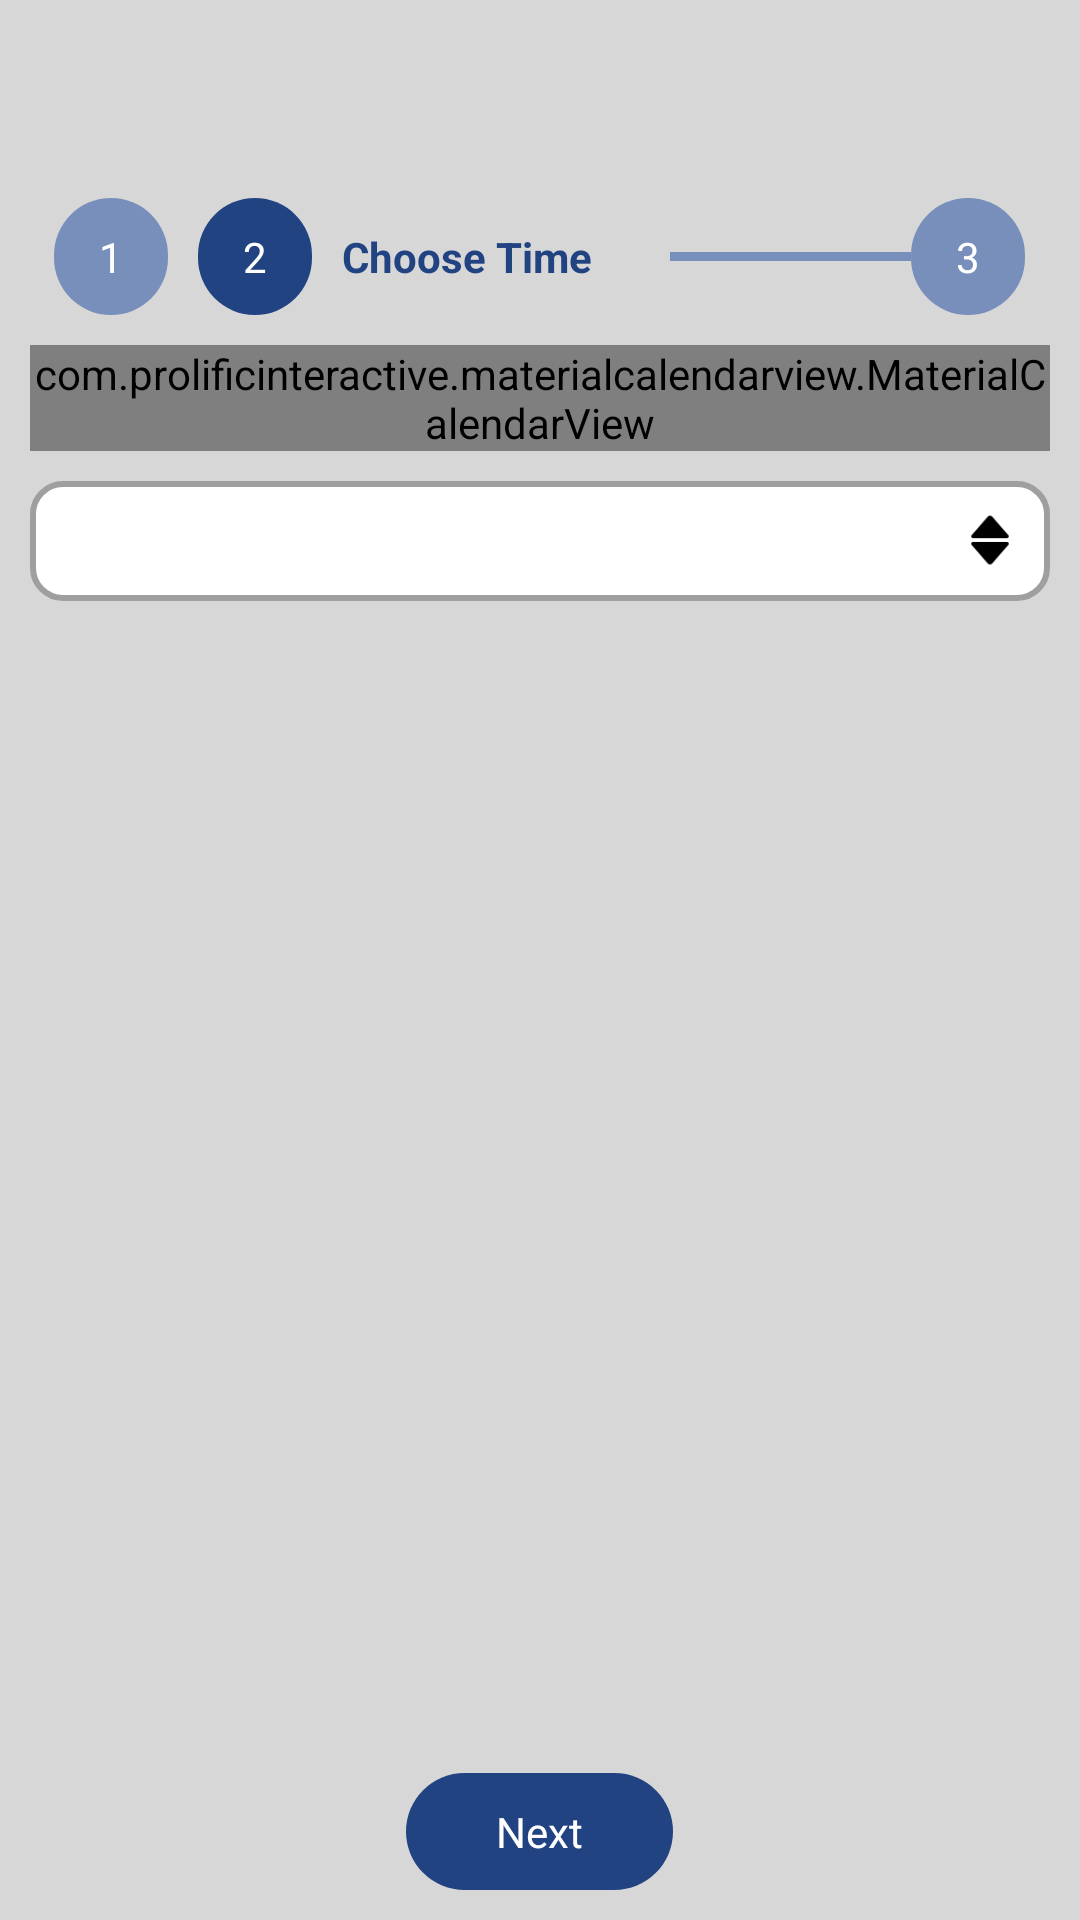

Icons on this 1080 x 1920 Android screen, each with its box as (x1, y1, x2, y2):
dropdown: (971, 515, 1009, 565)
